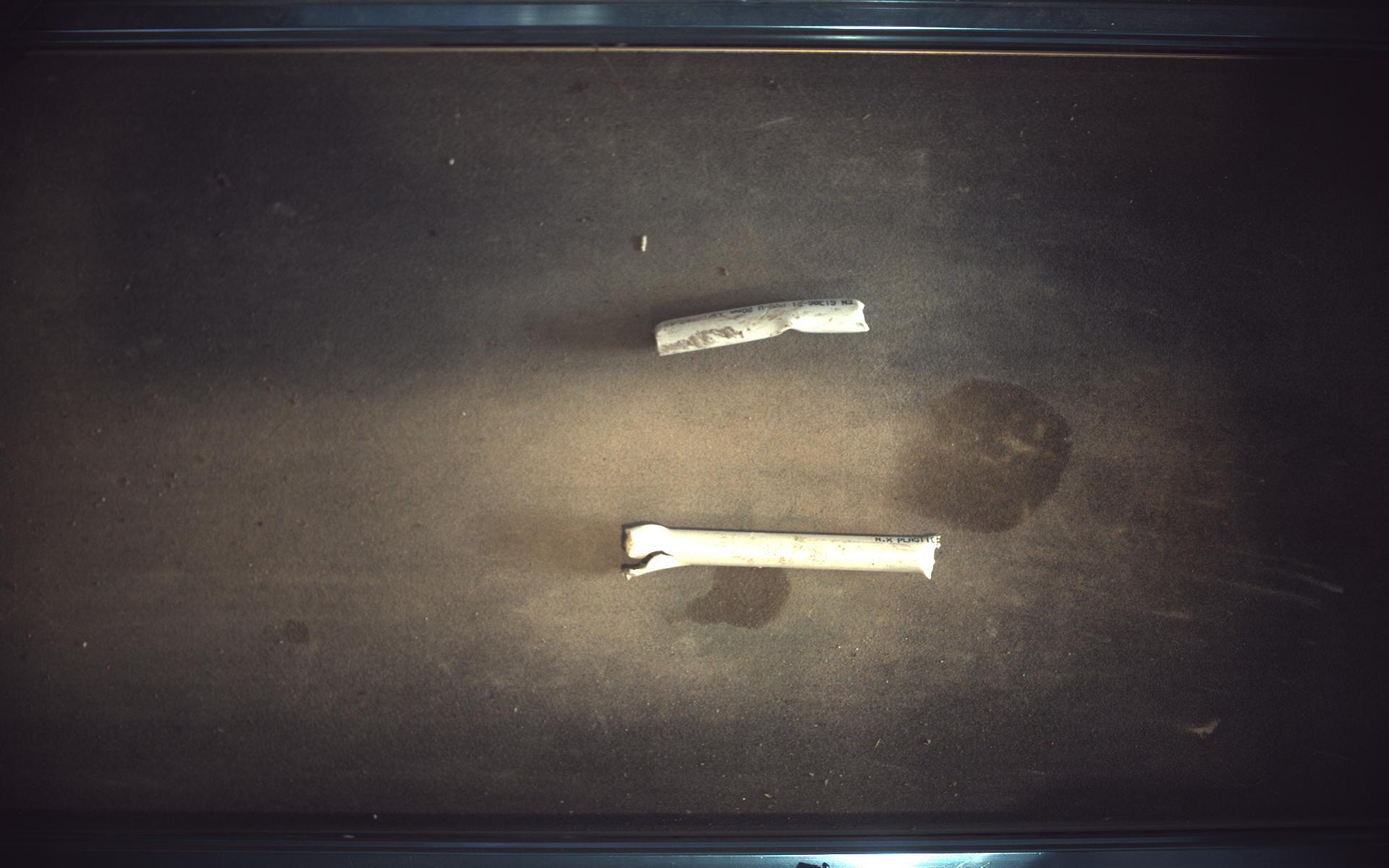pipes: (623, 524, 943, 579), (656, 299, 871, 355)
